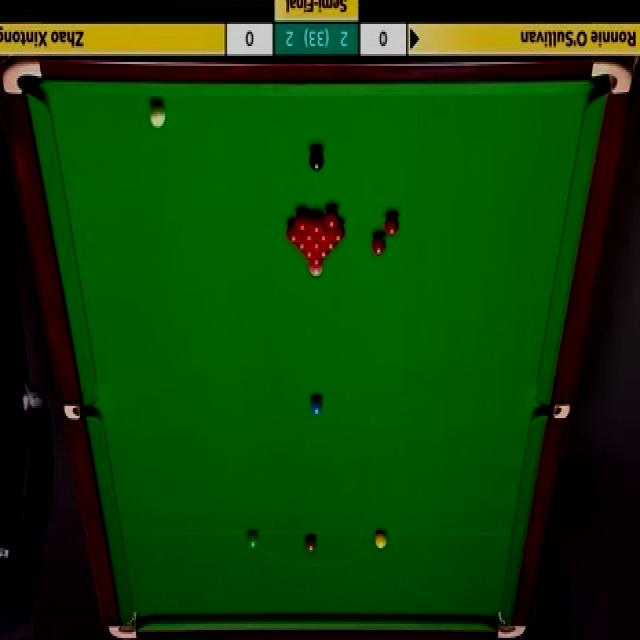black-ball: (309, 147, 325, 174)
blue-ball: (309, 394, 322, 416)
brown-ball: (305, 534, 317, 551)
green-ball: (247, 530, 258, 550)
pink-ball: (308, 264, 324, 281)
red-ball: (368, 232, 388, 258), (324, 205, 340, 228), (309, 211, 324, 235), (285, 223, 302, 243), (293, 209, 309, 230), (385, 215, 400, 237), (330, 222, 345, 243), (302, 224, 315, 242), (316, 228, 331, 243), (300, 248, 318, 258), (293, 240, 309, 251), (308, 258, 325, 268), (308, 240, 324, 250), (317, 249, 333, 258), (324, 239, 337, 250)
white-ball: (151, 104, 166, 128)
yellow-ball: (373, 530, 388, 551)
